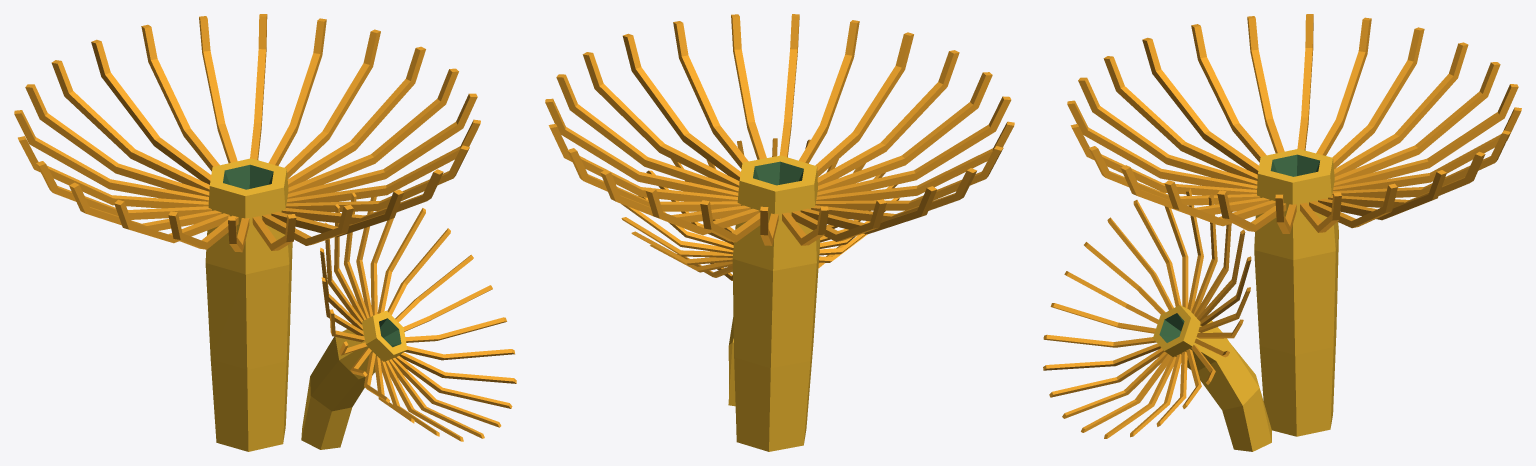
File: Coral-4.glb
3 renders of one model, left to right at view 1: azimuth 30°, elevation 25°; view 2: azimuth 150°, elevation 25°; view 3: azimuth 270°, elevation 25°, orthographic. The views are drawn at different scales.
Visible parts, largest first — view 1: Coral_026; view 2: Coral_026; view 3: Coral_026.
Boxes of the visible parts, bbox=[...] form: Coral_026: bbox=[14, 14, 516, 451]; Coral_026: bbox=[545, 14, 1014, 451]; Coral_026: bbox=[1043, 14, 1521, 451].
Size of what is drawn, in the model's own units: 0.6907 by 0.5345 by 0.7258.
Materials: 1 (1 with a texture image).
